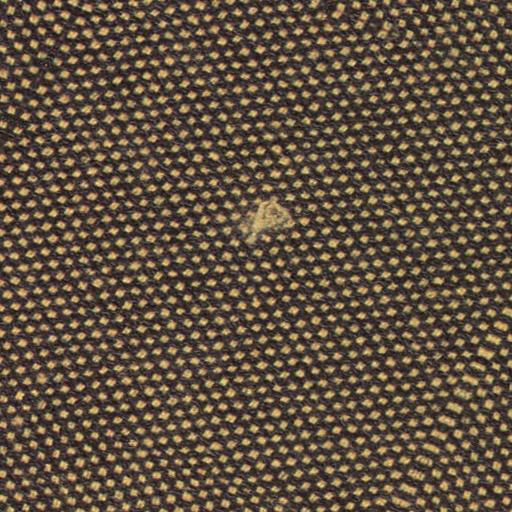knot: (233, 186, 308, 256)
